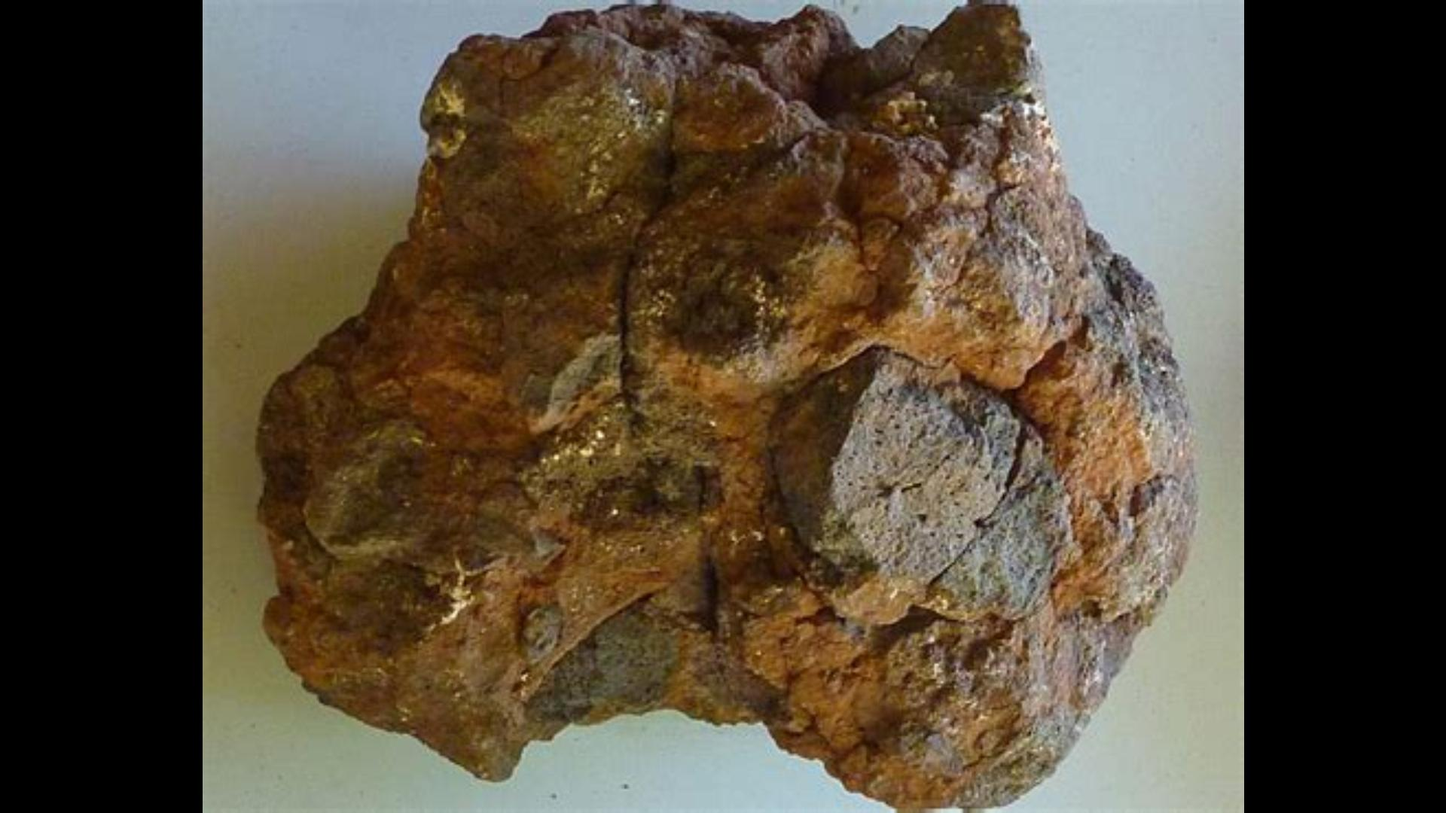rock: (259, 7, 1191, 804)
